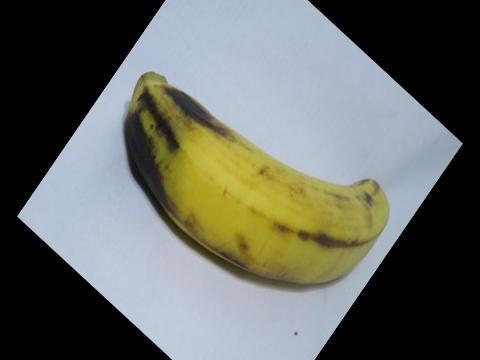ripe: (116, 60, 398, 310)
